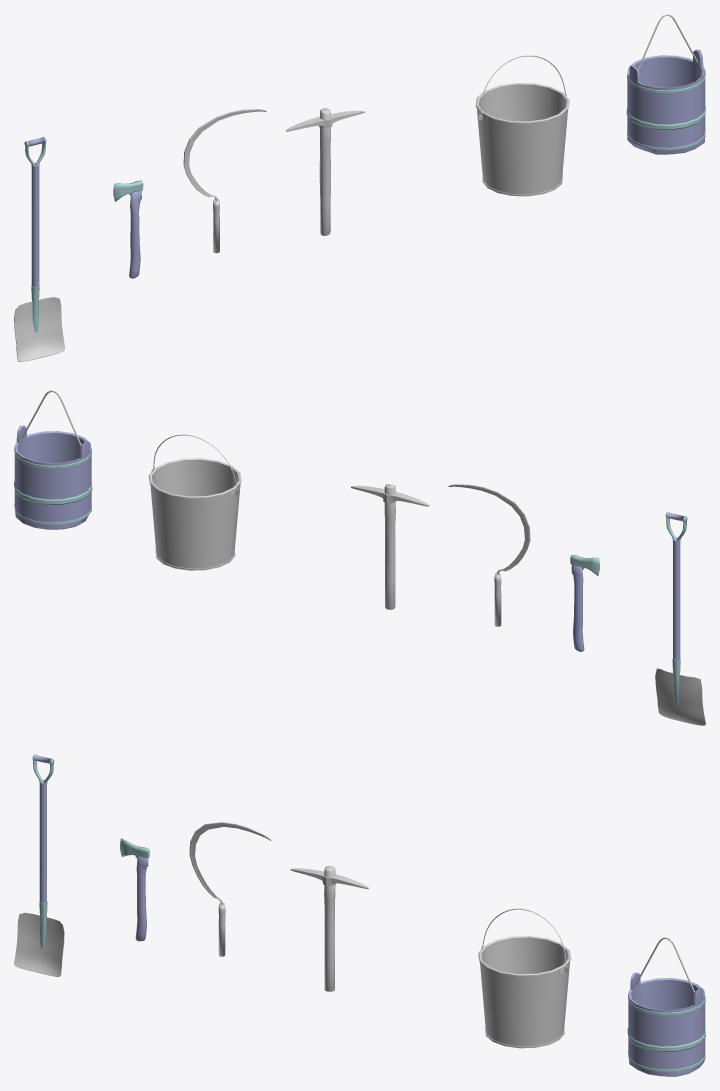
File: Tools_export.fbx
3 views of the same model, one above another, from view 1: azimuth 30°, elevation 25°; view 2: azimuth 150°, elevation 25°; view 3: azimuth 330°, elevation 25° (orthographic).
Visible parts, largest first — view 1: Cylinder.050, Cylinder.051, Plane.030, Cylinder.047, Cylinder.044, Cube.360, Plane.031, Cylinder.045; view 2: Cylinder.050, Cylinder.051, Plane.030, Cylinder.044, Cylinder.047, Cube.360, Plane.031, Cylinder.045; view 3: Cylinder.050, Cylinder.051, Plane.030, Cylinder.044, Cylinder.047, Cube.360, Plane.031, Cylinder.045.
Part boxes in pixels (x1,y1,x2,y2): Cylinder.050: [475, 55, 569, 196]; Cylinder.051: [626, 49, 705, 154]; Plane.030: [14, 297, 64, 361]; Cylinder.047: [31, 162, 39, 332]; Cylinder.044: [319, 108, 330, 235]; Cube.360: [113, 180, 143, 278]; Plane.031: [183, 109, 266, 200]; Cylinder.045: [286, 110, 364, 131]; Cylinder.050: [148, 434, 241, 570]; Cylinder.051: [14, 425, 92, 529]; Plane.030: [655, 668, 705, 725]; Cylinder.044: [384, 484, 395, 609]; Cylinder.047: [672, 537, 680, 704]; Cube.360: [570, 555, 599, 651]; Plane.031: [448, 484, 530, 574]; Cylinder.045: [351, 485, 429, 506]; Cylinder.050: [478, 908, 571, 1048]; Cylinder.051: [627, 972, 705, 1076]; Plane.030: [14, 912, 64, 976]; Cylinder.044: [324, 865, 335, 991]; Cylinder.047: [39, 780, 47, 947]; Cube.360: [120, 838, 149, 941]; Plane.031: [189, 822, 271, 904]; Cylinder.045: [290, 868, 368, 889].
Bounding box in the file's own units: 452 × 134 × 53.86.
